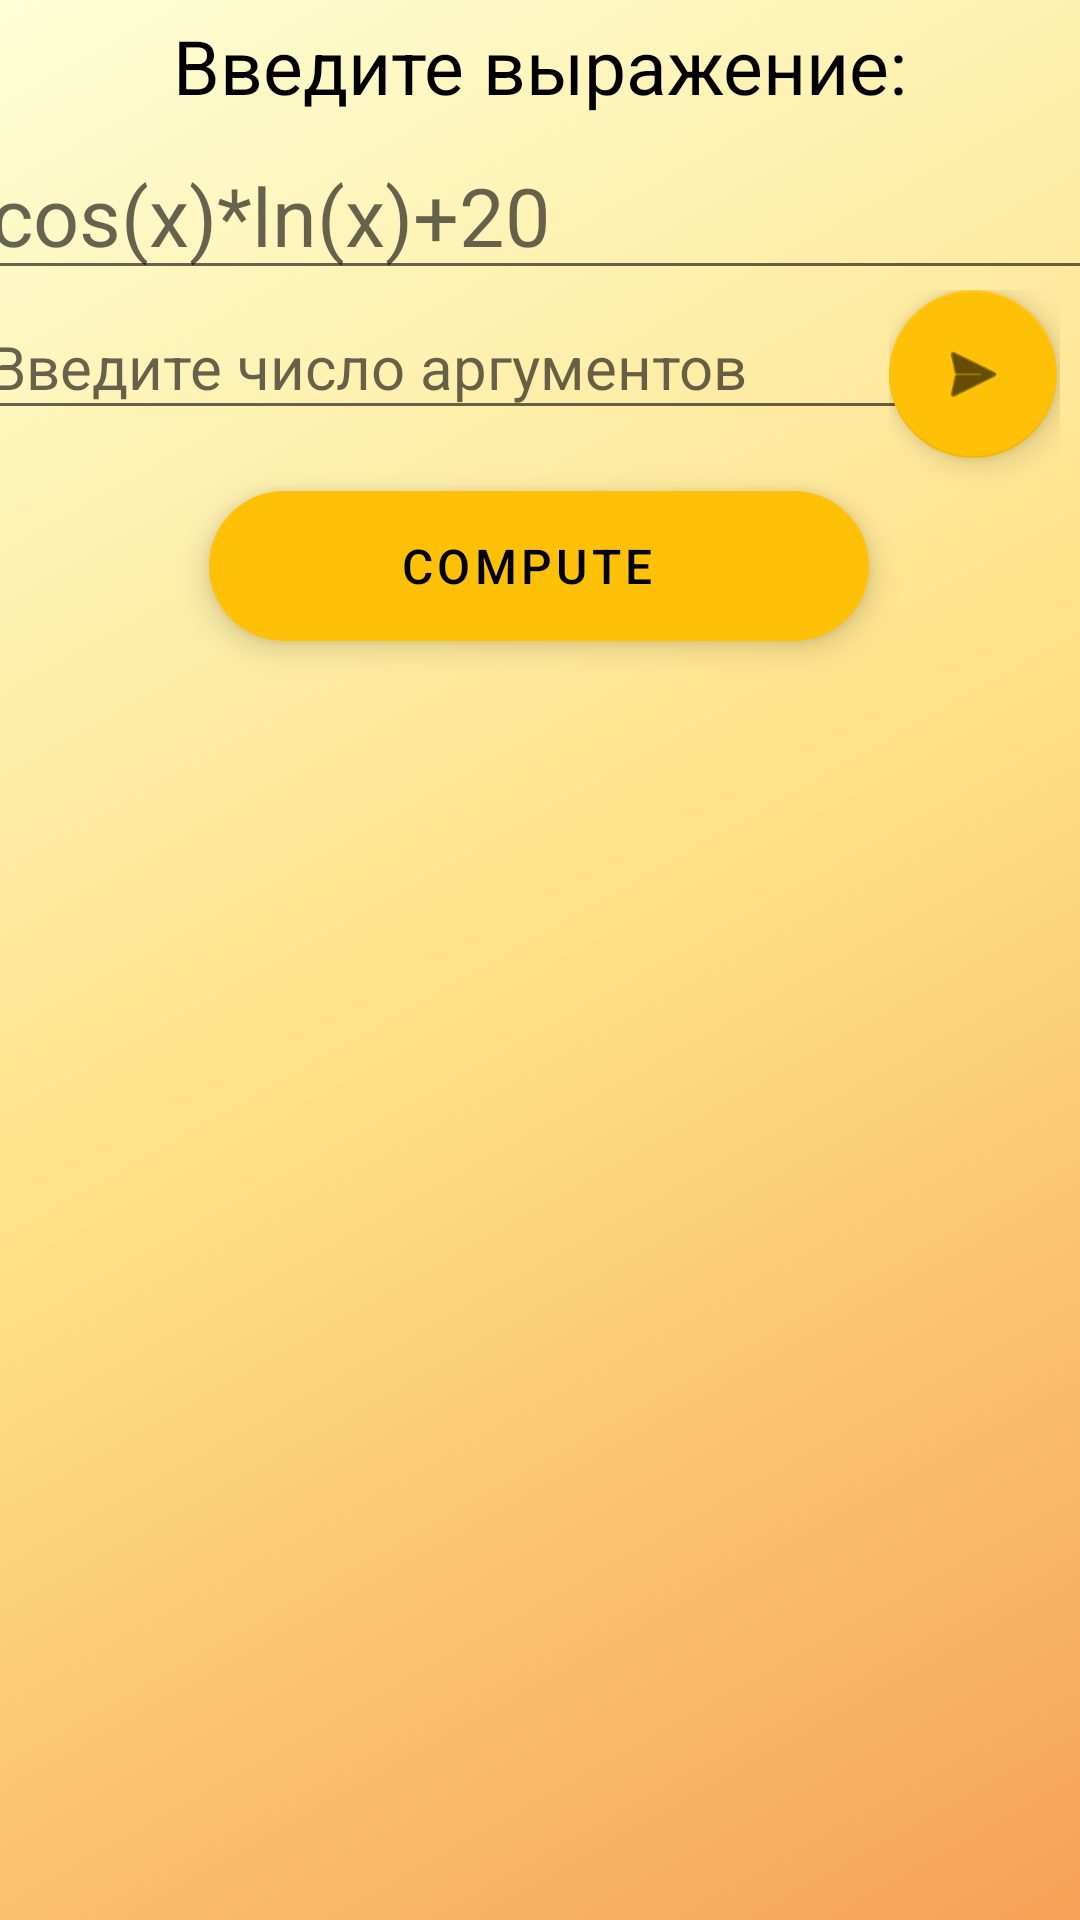

Icon bounding boxes for this 1080px×1920px phone screenshot, format (x1, y1, x2, y2):
send: (889, 290, 1057, 458)
